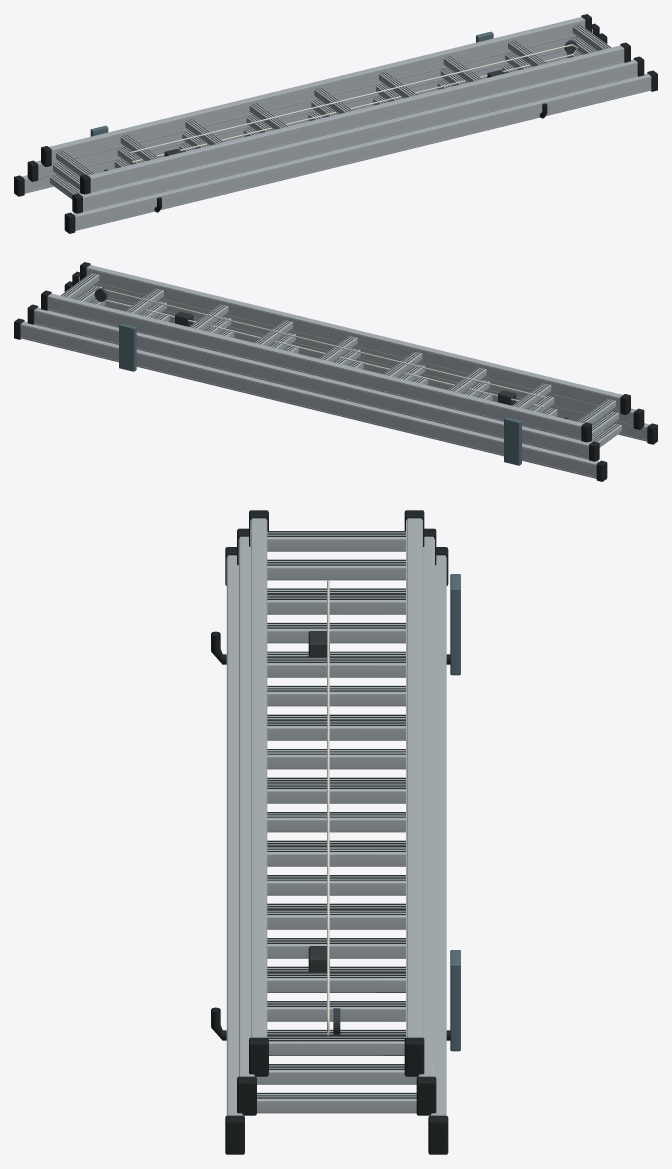
Rendered from garage-extension-ladder.glb.
The picture shows the model from 3 angles, top to bottom: view 1: azimuth 30°, elevation 25°; view 2: azimuth 150°, elevation 25°; view 3: azimuth 270°, elevation 25°; orthographic projection. The views are drawn at different scales.
Visible parts, largest first — view 1: catalog_surface_RealismUV; view 2: catalog_surface_RealismUV; view 3: catalog_surface_RealismUV.
Part boxes in pixels (x1,y1,x2,y2): catalog_surface_RealismUV: [14, 14, 657, 233]; catalog_surface_RealismUV: [14, 262, 657, 481]; catalog_surface_RealismUV: [211, 510, 460, 1154].
Size of the model in its own units: 2.5 by 0.19 by 0.46.
